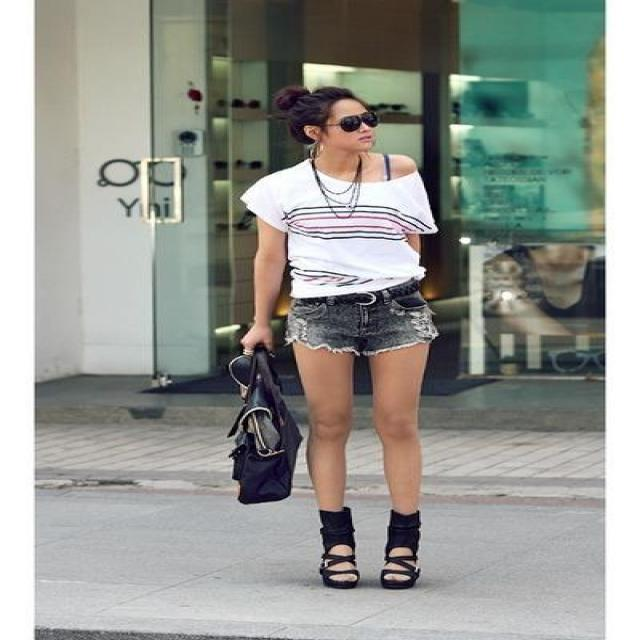bag: (213, 362, 307, 503)
shirt: (240, 166, 437, 296)
shoe: (318, 507, 419, 565)
shorts: (254, 298, 433, 362)
sunglass: (338, 98, 386, 131)
